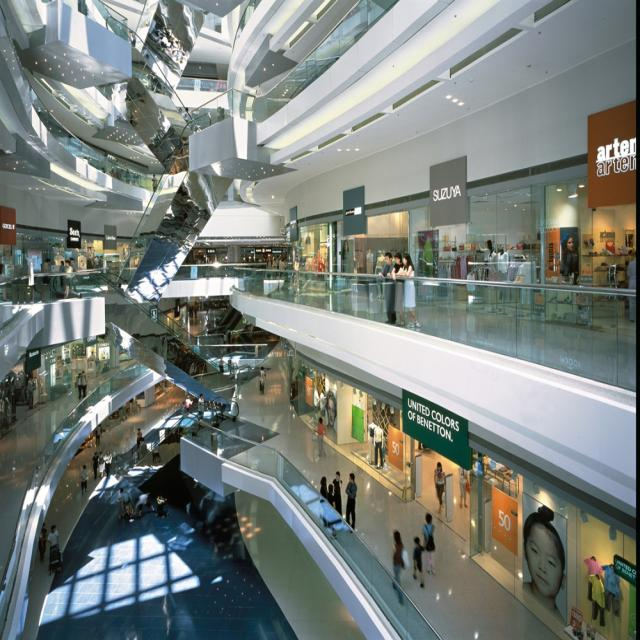body: (518, 502, 568, 621), (186, 246, 304, 276), (342, 237, 390, 303), (352, 396, 390, 470), (153, 16, 190, 69), (307, 387, 339, 448), (485, 245, 513, 312), (399, 250, 421, 330), (388, 527, 410, 607), (78, 164, 146, 189), (378, 250, 397, 326), (475, 237, 495, 306), (390, 251, 405, 328), (193, 105, 230, 134), (421, 510, 437, 577), (560, 233, 580, 284), (343, 469, 358, 533), (625, 250, 637, 324), (410, 534, 426, 588), (312, 414, 329, 457), (131, 489, 156, 518), (434, 461, 447, 515), (27, 373, 45, 409), (114, 397, 141, 420), (458, 465, 471, 510), (115, 486, 131, 520), (332, 469, 343, 516), (46, 524, 60, 558), (63, 259, 74, 299), (320, 475, 328, 529), (86, 250, 106, 271), (38, 521, 47, 565), (99, 359, 111, 390), (79, 462, 88, 496), (90, 448, 99, 482), (102, 448, 112, 478), (156, 493, 168, 518), (126, 28, 136, 57), (187, 302, 206, 317), (0, 261, 8, 296), (136, 436, 147, 461), (326, 483, 336, 510), (49, 545, 60, 569), (197, 392, 205, 423), (173, 96, 184, 118), (97, 450, 105, 479), (80, 370, 88, 399), (316, 256, 325, 281), (58, 260, 66, 288), (259, 365, 266, 394), (75, 372, 82, 400), (184, 394, 193, 415), (266, 255, 273, 281), (124, 500, 134, 518), (260, 371, 267, 395), (178, 399, 186, 420), (151, 173, 158, 197), (42, 257, 52, 273), (136, 427, 143, 449), (94, 424, 101, 446), (218, 355, 226, 373), (68, 255, 77, 271), (150, 306, 158, 324), (272, 257, 278, 280), (183, 106, 190, 124), (88, 350, 97, 363), (280, 256, 287, 271)
